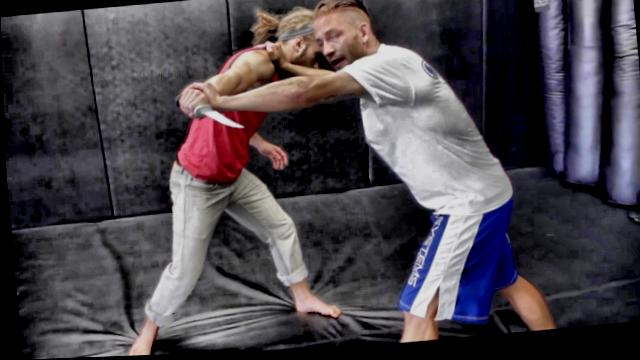knife: (169, 86, 249, 138)
